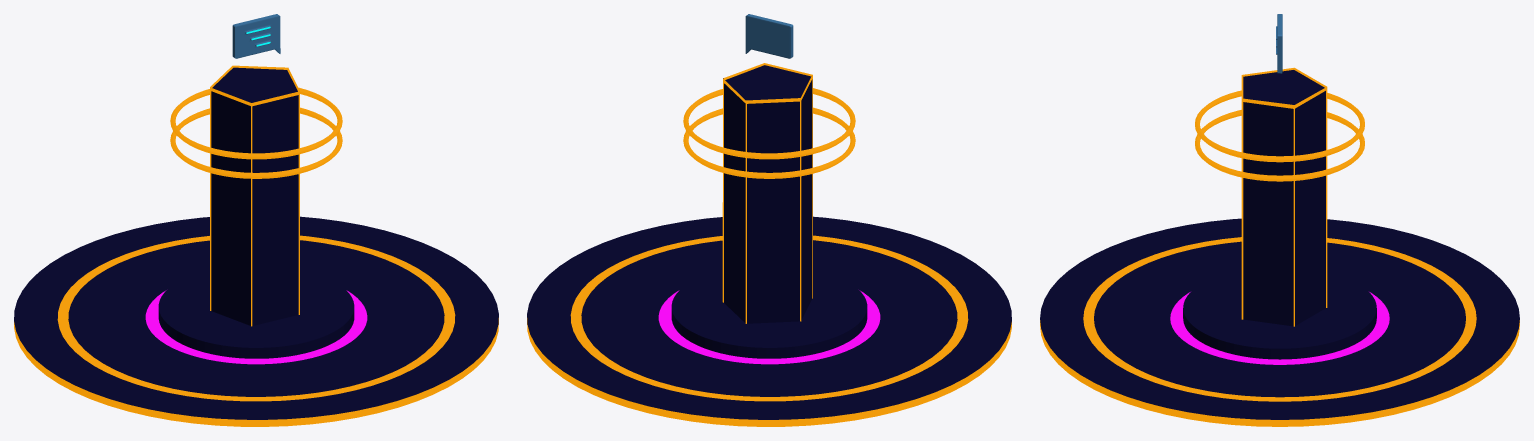
File: contact.glb
The picture shows the model from 3 angles, left to right: view 1: azimuth 30°, elevation 25°; view 2: azimuth 150°, elevation 25°; view 3: azimuth 270°, elevation 25°; orthographic projection.
Parts seen in each view (by area): view 1: Contact Base, Contact, BézierCircle, Message; view 2: Contact Base, Contact, BézierCircle, Message; view 3: Contact Base, Contact, BézierCircle.
Part boxes in pixels (box(x1,y1,x2,y2)): Contact Base: box(14, 216, 498, 426); Contact: box(210, 65, 299, 326); BézierCircle: box(170, 87, 342, 178); Message: box(232, 14, 280, 58); Contact Base: box(527, 216, 1011, 426); Contact: box(722, 63, 812, 323); BézierCircle: box(683, 88, 855, 178); Message: box(745, 14, 793, 58); Contact Base: box(1040, 218, 1519, 426); Contact: box(1241, 67, 1327, 326); BézierCircle: box(1195, 90, 1364, 181).
Size of the model in its own units: 0.5572 by 0.3858 by 0.5572.
